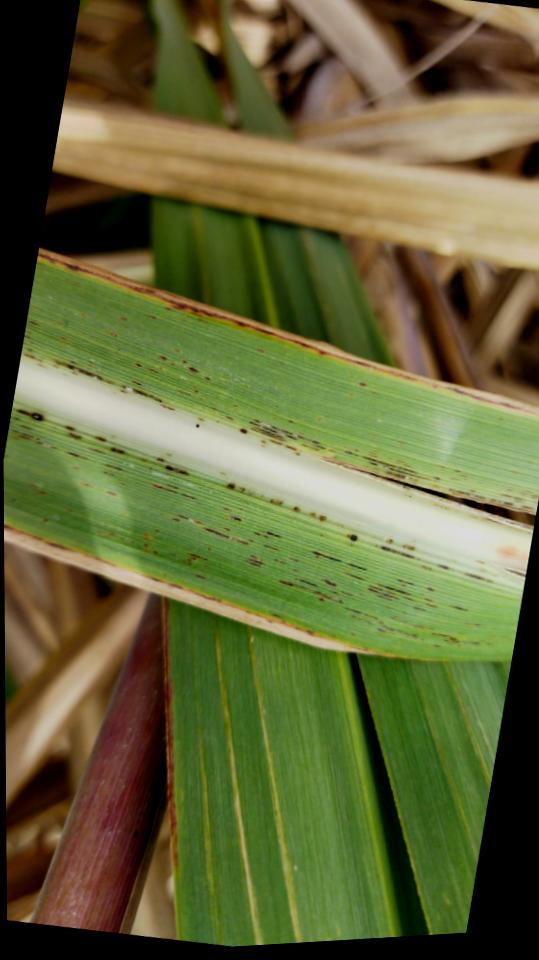Rust: (7, 402, 522, 654), (20, 315, 539, 536), (37, 250, 539, 419), (25, 479, 47, 497), (502, 565, 526, 580), (143, 311, 157, 321), (107, 330, 119, 339), (117, 314, 129, 323), (358, 381, 369, 390)
